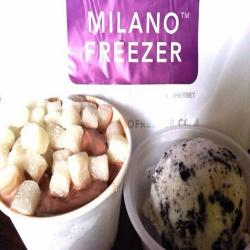icecream: (144, 138, 243, 249)
